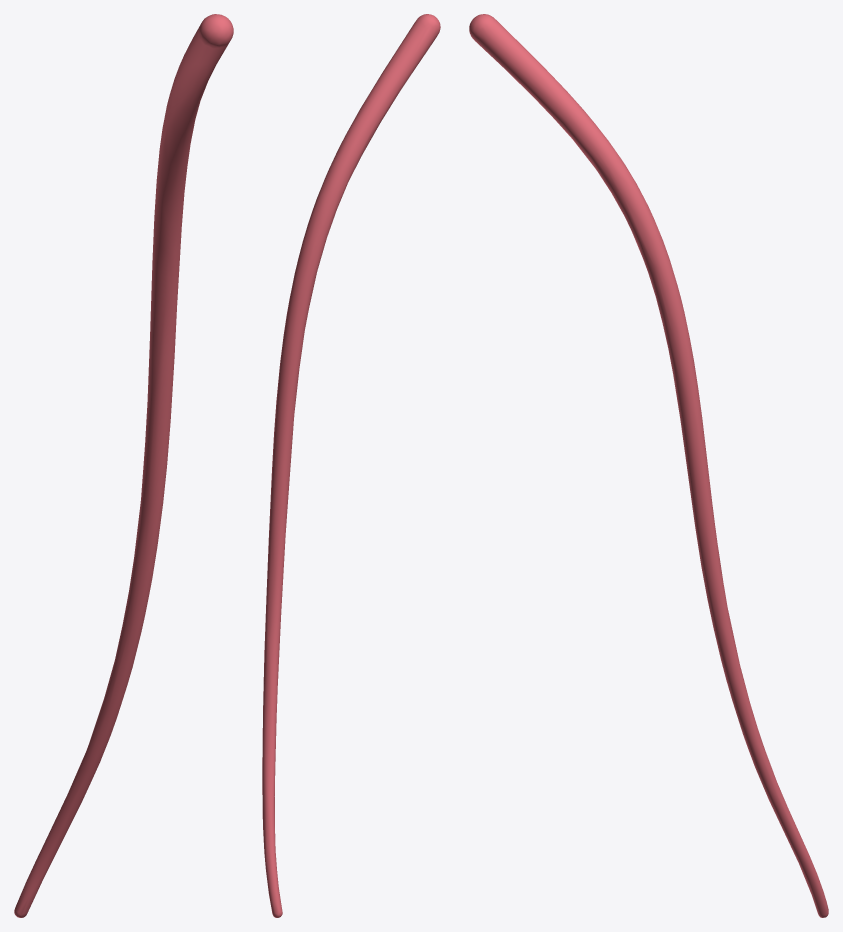
The model's file is fma22707_fj2373.glb.
The picture shows the model from 3 angles, left to right: view 1: azimuth 30°, elevation 25°; view 2: azimuth 150°, elevation 25°; view 3: azimuth 270°, elevation 25°; orthographic projection. The views are drawn at different scales.
Visible parts, largest first — view 1: FMA22707_FJ2373; view 2: FMA22707_FJ2373; view 3: FMA22707_FJ2373.
Boxes of the visible parts, x1,y1,x2,y2 form: FMA22707_FJ2373: [14, 14, 233, 917]; FMA22707_FJ2373: [262, 14, 440, 917]; FMA22707_FJ2373: [469, 14, 828, 917].
Size of the model in its own units: 0.00765 by 0.0825 by 0.0298.
